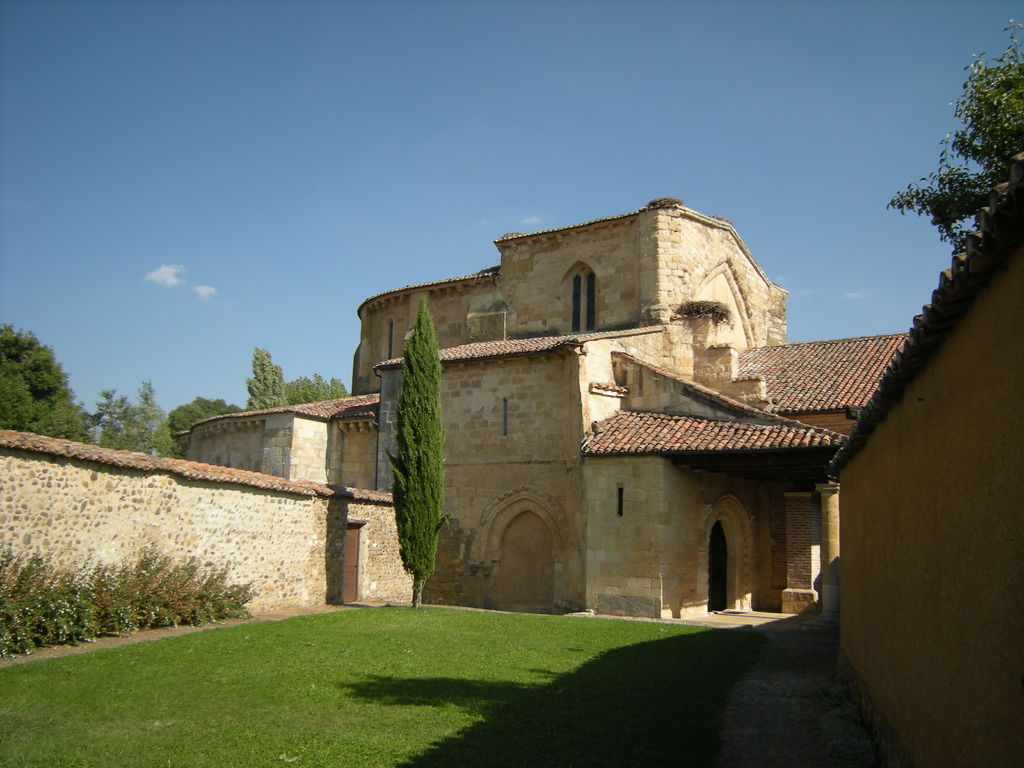Tree: (885, 12, 1023, 255), (382, 300, 446, 609), (0, 320, 108, 435), (101, 375, 172, 456), (167, 398, 263, 455), (242, 344, 290, 417), (288, 366, 353, 399), (89, 385, 130, 421)
